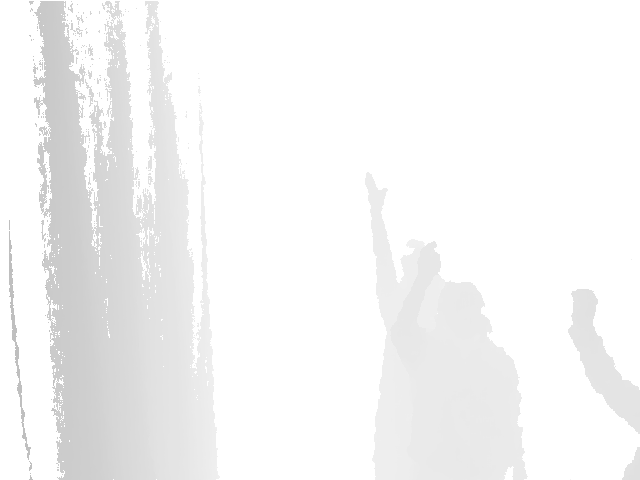hand: (363, 168, 387, 212), (570, 289, 599, 324), (416, 241, 439, 282)
head: (432, 279, 495, 345), (398, 237, 424, 290)
person: (398, 245, 527, 480), (356, 166, 441, 480), (567, 289, 640, 480)
